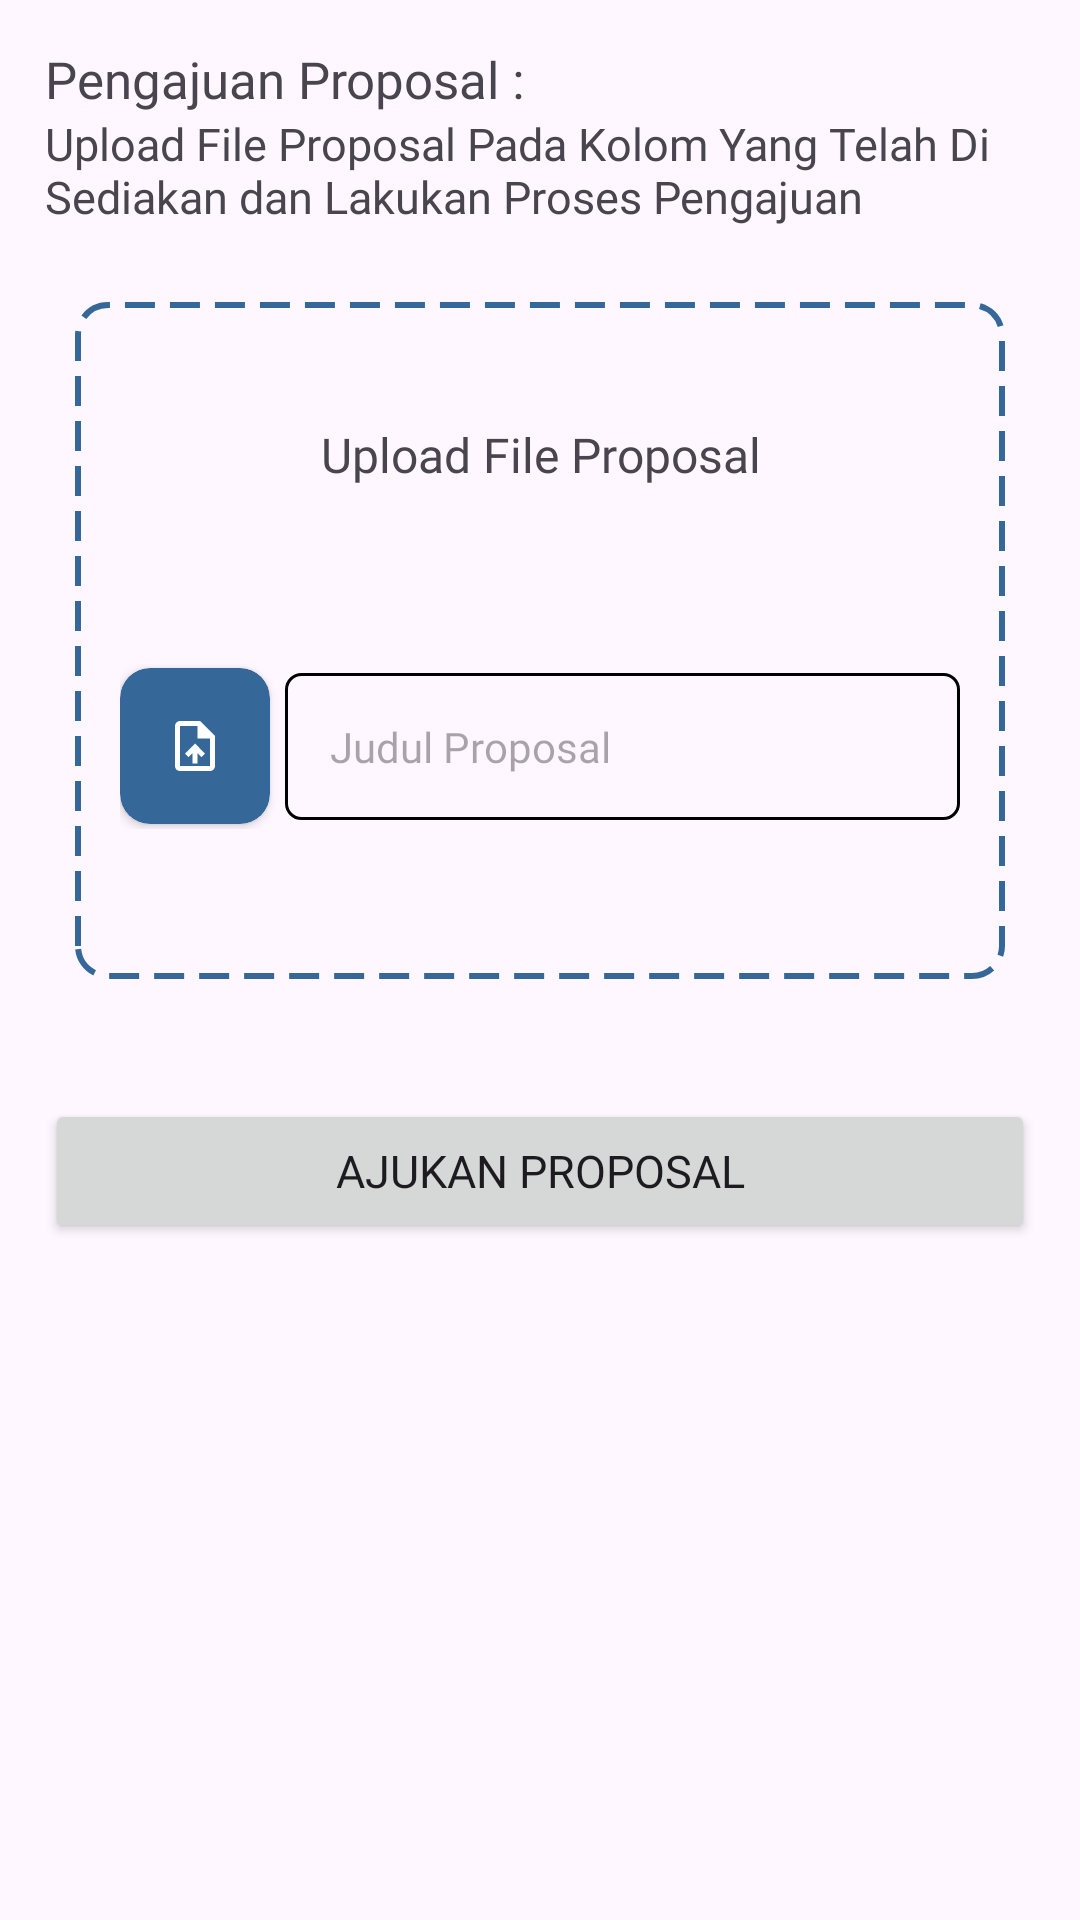

Where icons sit on this 1080w x 1920h app screen, as region(x1, y1, x2, y2):
upload: region(120, 668, 270, 824)
